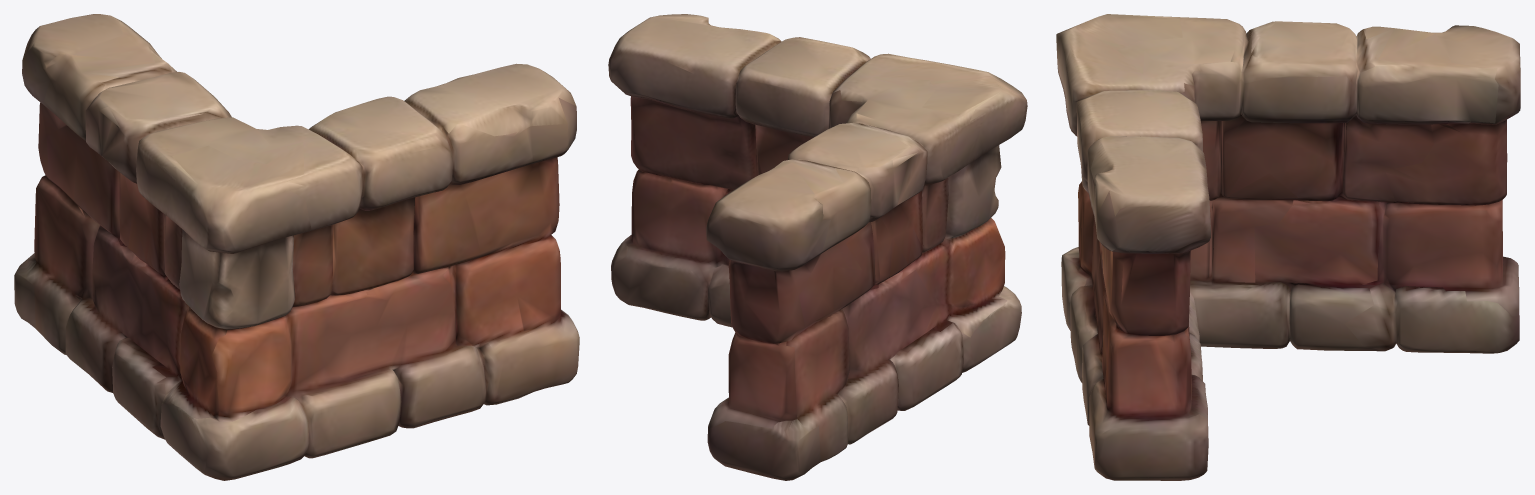
The model's file is c04_muro_canto.glb.
3 views of the same model, side by side, from view 1: azimuth 30°, elevation 25°; view 2: azimuth 150°, elevation 25°; view 3: azimuth 270°, elevation 25° (orthographic). The views are drawn at different scales.
Parts seen in each view (by area): view 1: c04_muro_canto; view 2: c04_muro_canto; view 3: c04_muro_canto.
Boxes of the visible parts, left/top/right/bottom form: c04_muro_canto: left=14, top=14, right=579, bottom=480; c04_muro_canto: left=608, top=14, right=1027, bottom=480; c04_muro_canto: left=1056, top=14, right=1520, bottom=480.
Bounding box in the file's own units: 2.2 × 1.54 × 2.27.
Materials: 1 (1 with a texture image).
